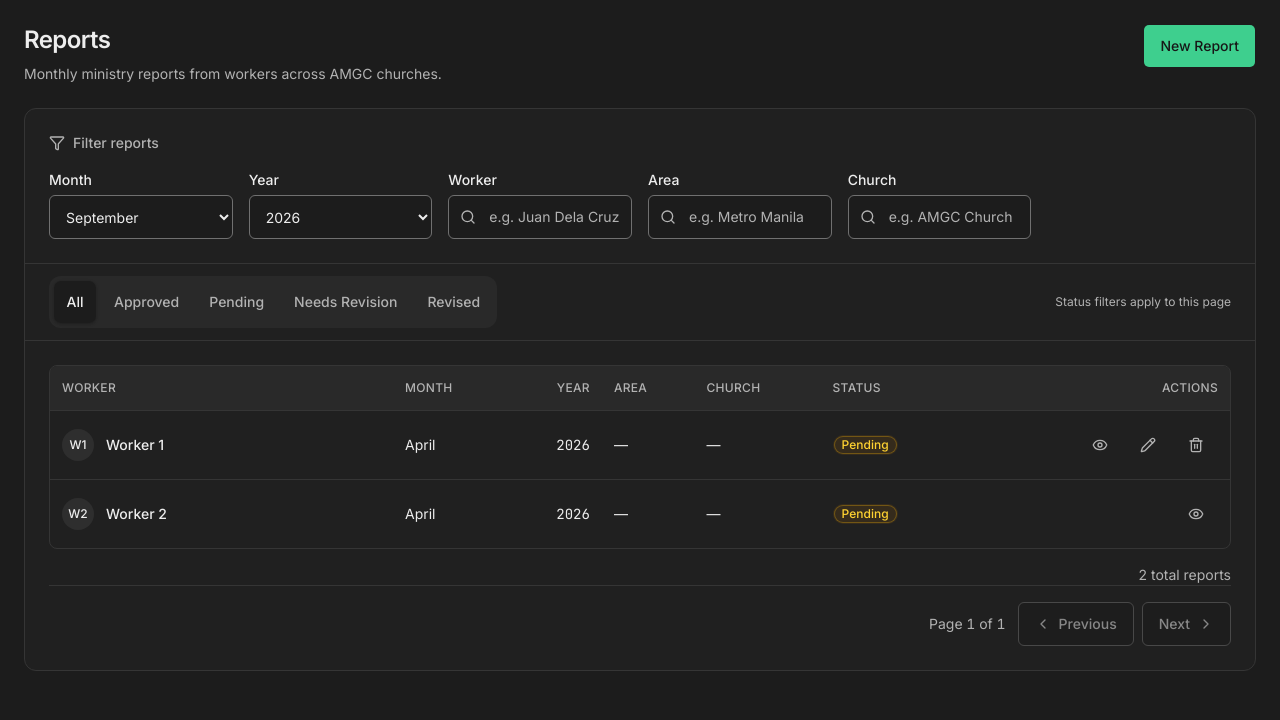
Scenario: reports list: delete › after a delete the row is gone, so focus goes to the main content
Check: the text "Worker 1" is shown, box [106, 434, 164, 454]
Click the button named "Delete " at (1196, 444), box [1174, 422, 1218, 466]
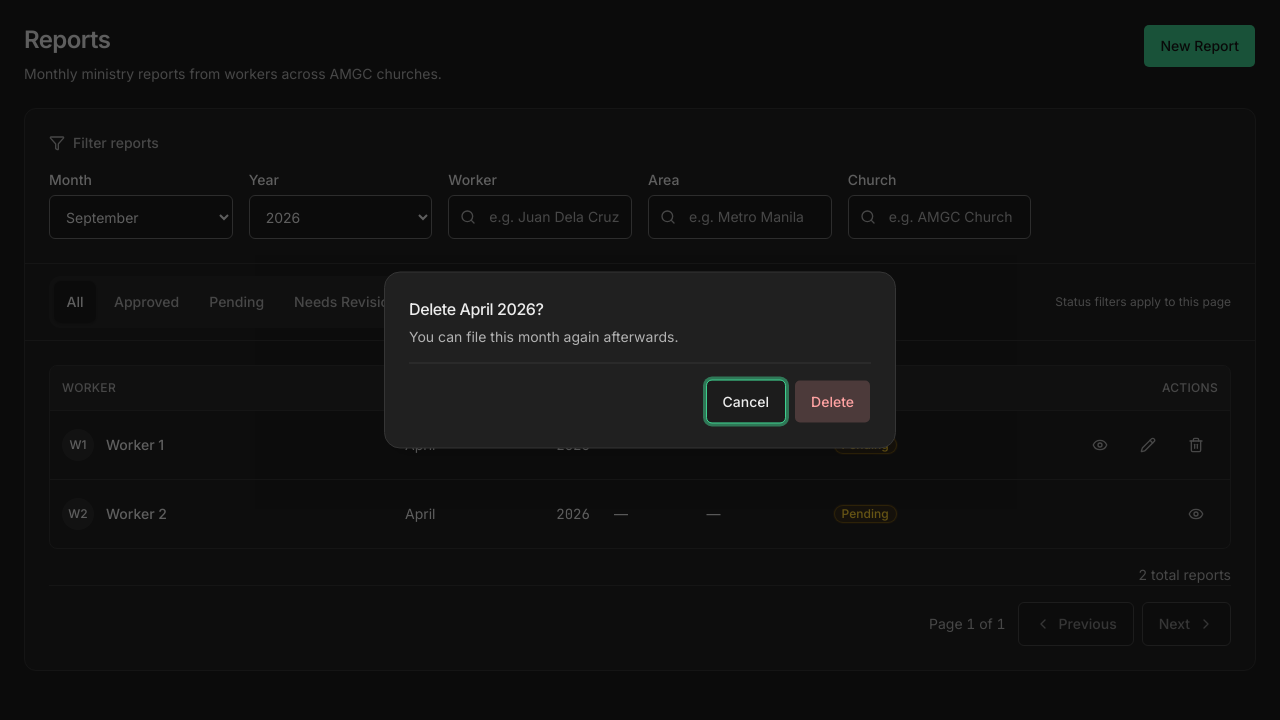
Click the button "Delete" at (833, 402), box [794, 380, 871, 424]
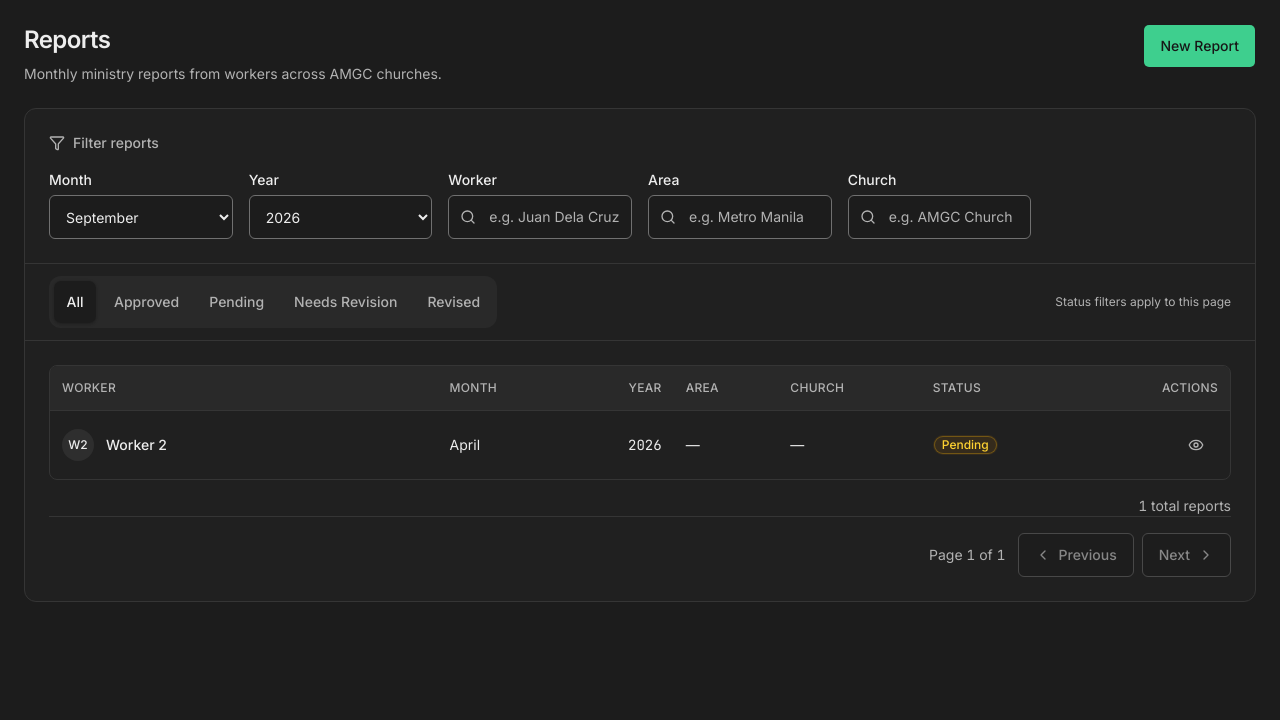
Check: the text "Worker 1" is gone
